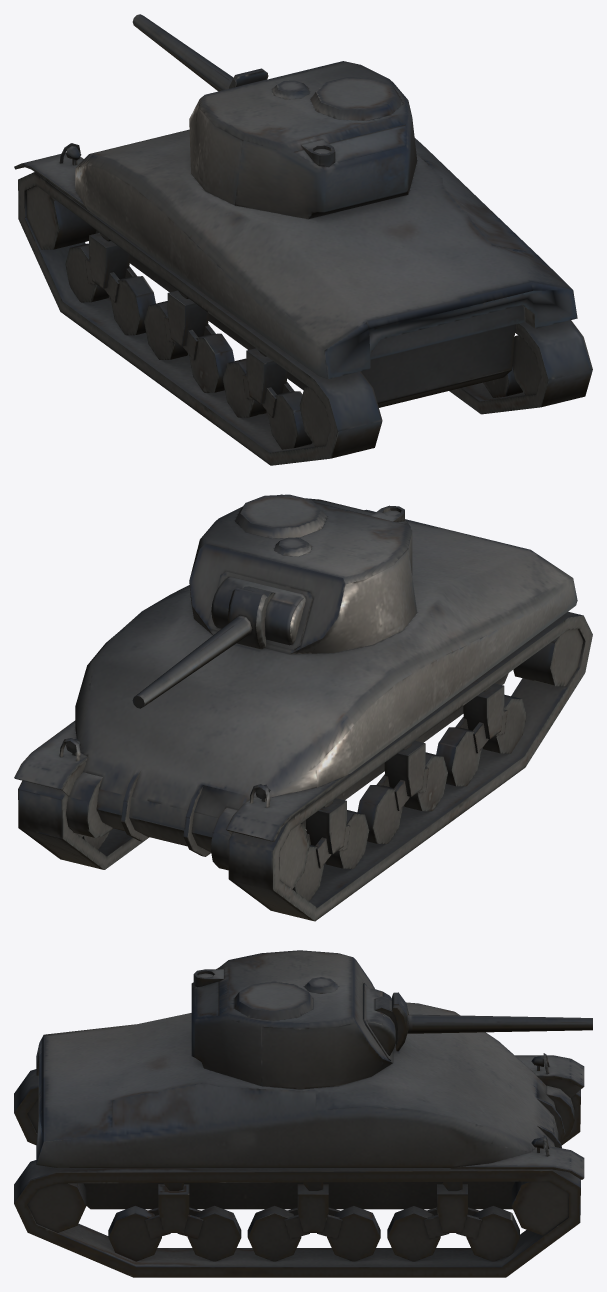
3 renders of one model, top to bottom at view 1: azimuth 30°, elevation 25°; view 2: azimuth 150°, elevation 25°; view 3: azimuth 270°, elevation 25°, orthographic. The views are drawn at different scales.
Parts seen in each view (by area): view 1: M4A1 Hull, M4A1 Turret; view 2: M4A1 Hull, M4A1 Turret; view 3: M4A1 Hull, M4A1 Turret.
Boxes of the visible parts, <box> form: M4A1 Hull: <box>14,129,592,465</box>; M4A1 Turret: <box>132,14,417,219</box>; M4A1 Hull: <box>14,509,592,921</box>; M4A1 Turret: <box>132,494,417,708</box>; M4A1 Hull: <box>14,1002,584,1277</box>; M4A1 Turret: <box>191,950,592,1089</box>.
Size of the model in its own units: 2.92 by 2.91 by 6.3.
